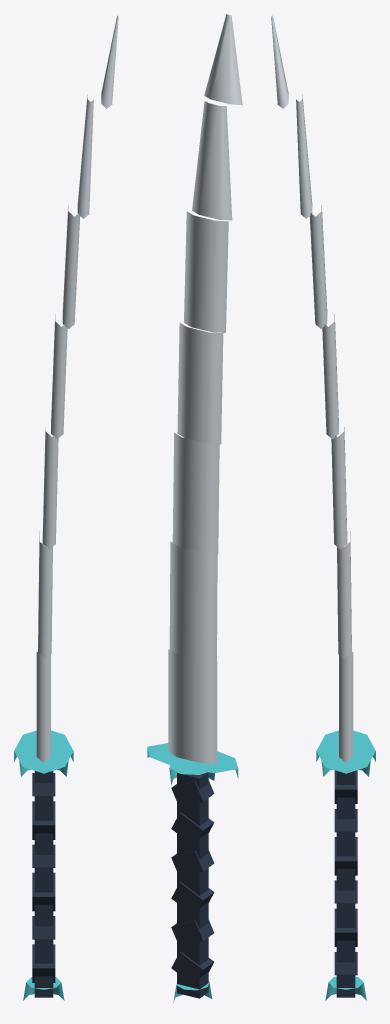
The model's file is katana.glb.
The picture shows the model from 3 angles, left to right: view 1: azimuth 90°, elevation 25°; view 2: azimuth 150°, elevation 25°; view 3: azimuth 270°, elevation 25°; orthographic projection. The views are drawn at different scales.
Visible parts, largest first — view 1: blade, tsuka, tsuba; view 2: blade, tsuka, tsuba; view 3: blade, tsuka, tsuba.
Part boxes in pixels (bbox=[...]): blade: bbox=[36, 15, 118, 762]; tsuka: bbox=[32, 771, 55, 997]; tsuba: bbox=[14, 730, 73, 1000]; blade: bbox=[168, 14, 242, 763]; tsuka: bbox=[171, 772, 214, 998]; tsuba: bbox=[147, 743, 238, 1002]; blade: bbox=[271, 15, 353, 762]; tsuka: bbox=[334, 770, 357, 997]; tsuba: bbox=[316, 730, 375, 1000].
Bounding box in the file's own units: 0.104 × 1.05 × 0.1008.
